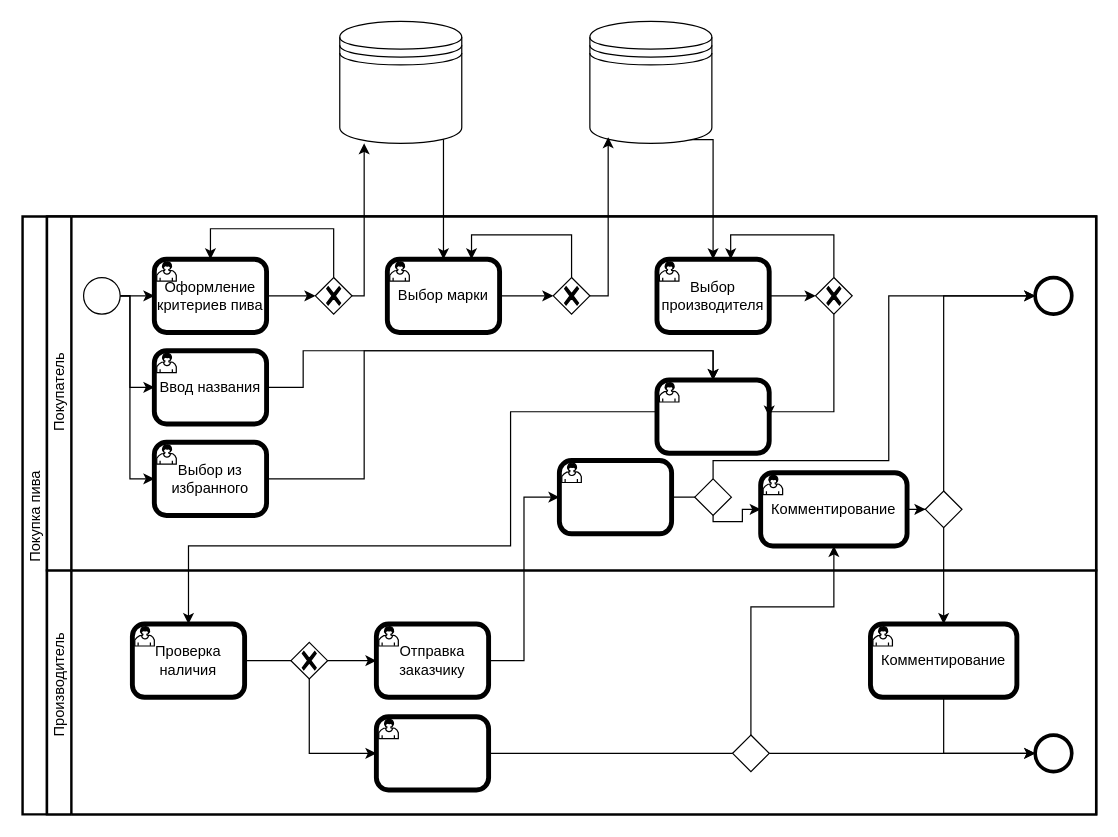
This 1118x837 diagram has some shape labels left out. Each missing label, with the centre of its shape:
"Отказ и извинения" belongs at pixel 432 753.
"Подтверждение заказа" belongs at pixel 712 416.
"Принятие" belongs at pixel 615 496.
